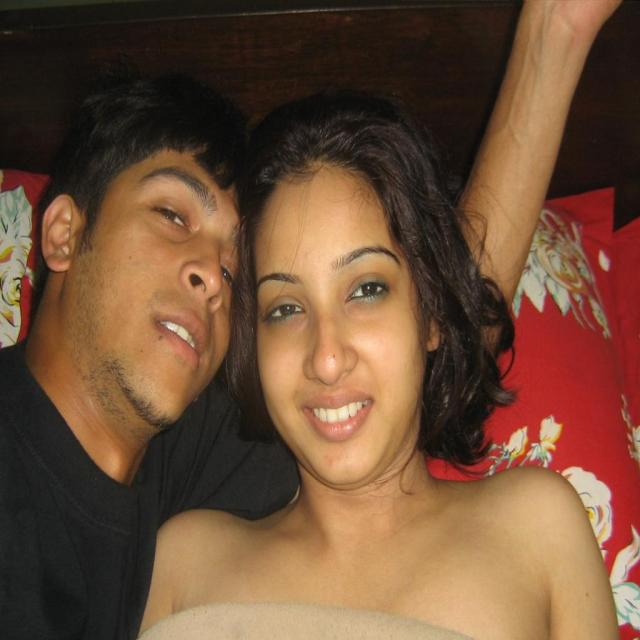Face: (258, 164, 432, 473), (114, 150, 246, 429)
